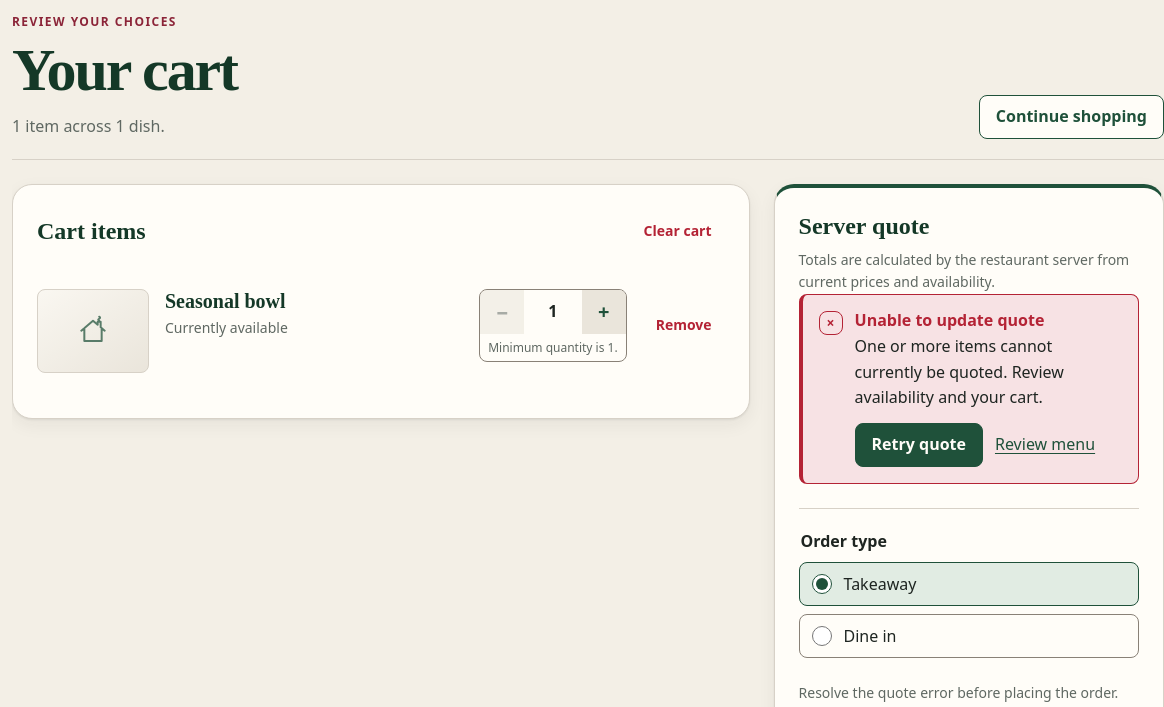
it: CartPage › preserves the cart on a business quote error and retries manually
Expected: the message shows "One or more items cannot currently be quoted", [854,335,1064,408]
Expected: the heading "Seasonal bowl" is shown, [165,290,286,312]
Click the button "Retry quote": (919,445) [854,423,983,467]
Wait 400 ms
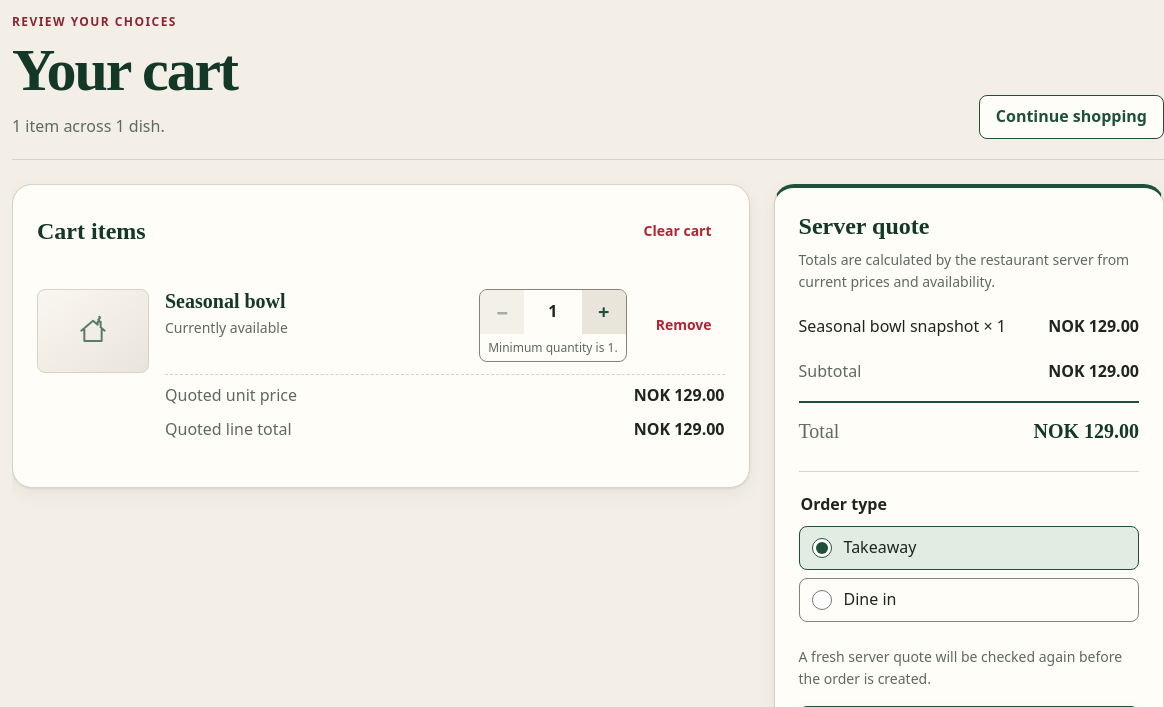
Now the text "Seasonal bowl snapshot × 1" is shown, box [798,314,1006,339]
